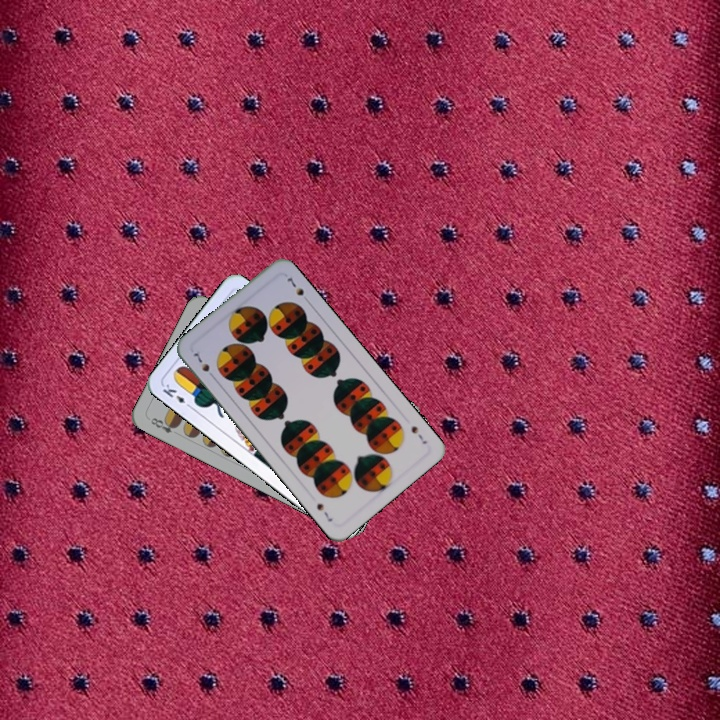E8: (147, 414, 180, 436)
EK: (158, 380, 195, 411)
S7: (189, 348, 218, 382), (407, 422, 430, 447)
